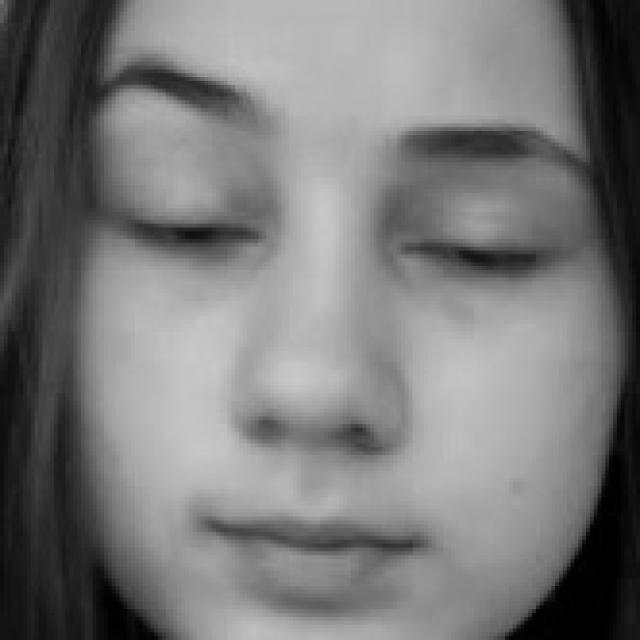real: (50, 12, 604, 608), (122, 156, 590, 296)
